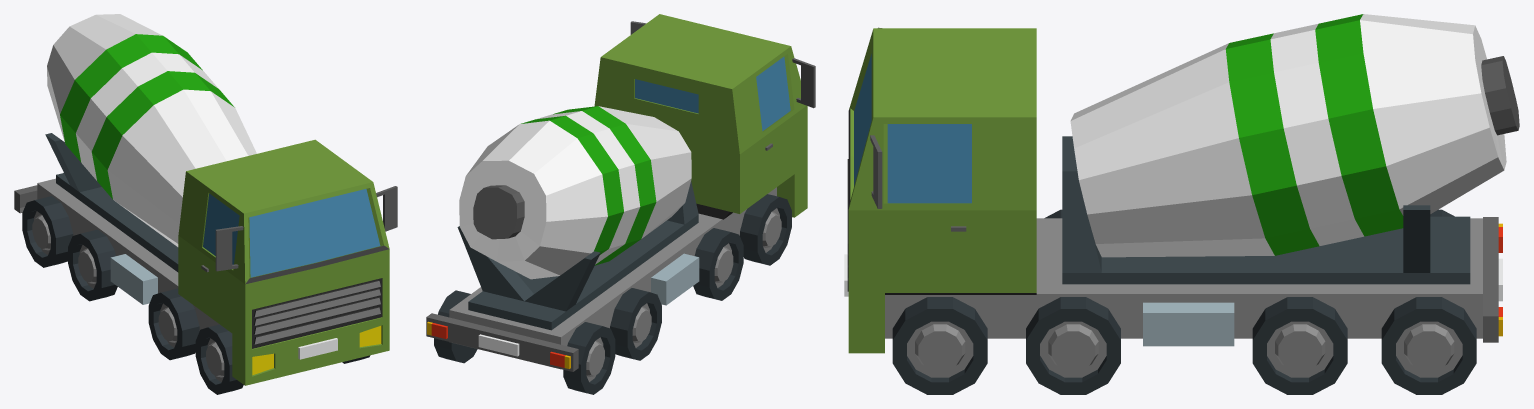
File: Green-car.glb
3 views of the same model, side by side, from view 1: azimuth 30°, elevation 25°; view 2: azimuth 150°, elevation 25°; view 3: azimuth 270°, elevation 25° (orthographic). The views are drawn at different scales.
Parts seen in each view (by area): view 1: Concrete Truck Green; view 2: Concrete Truck Green; view 3: Concrete Truck Green.
Part boxes in pixels (x1,y1,x2,y2): Concrete Truck Green: (14,14,397,394); Concrete Truck Green: (426,14,815,394); Concrete Truck Green: (844,14,1519,394).
Bounding box in the file's own units: 3.13 × 3.81 × 7.18.
Materials: 1 (1 with a texture image).
